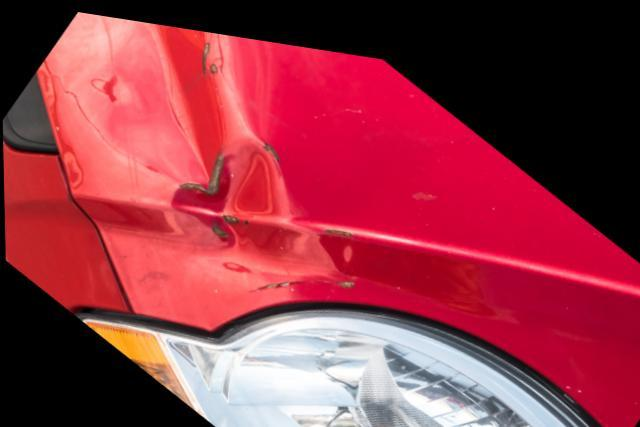dent: (44, 9, 331, 262)
